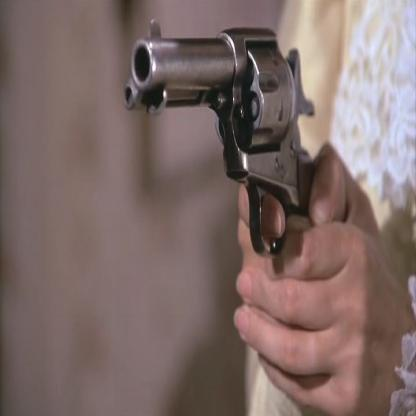gun: (117, 2, 313, 256)
